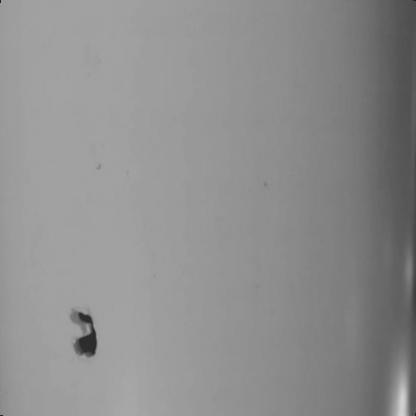kongdong: (62, 307, 110, 360)
